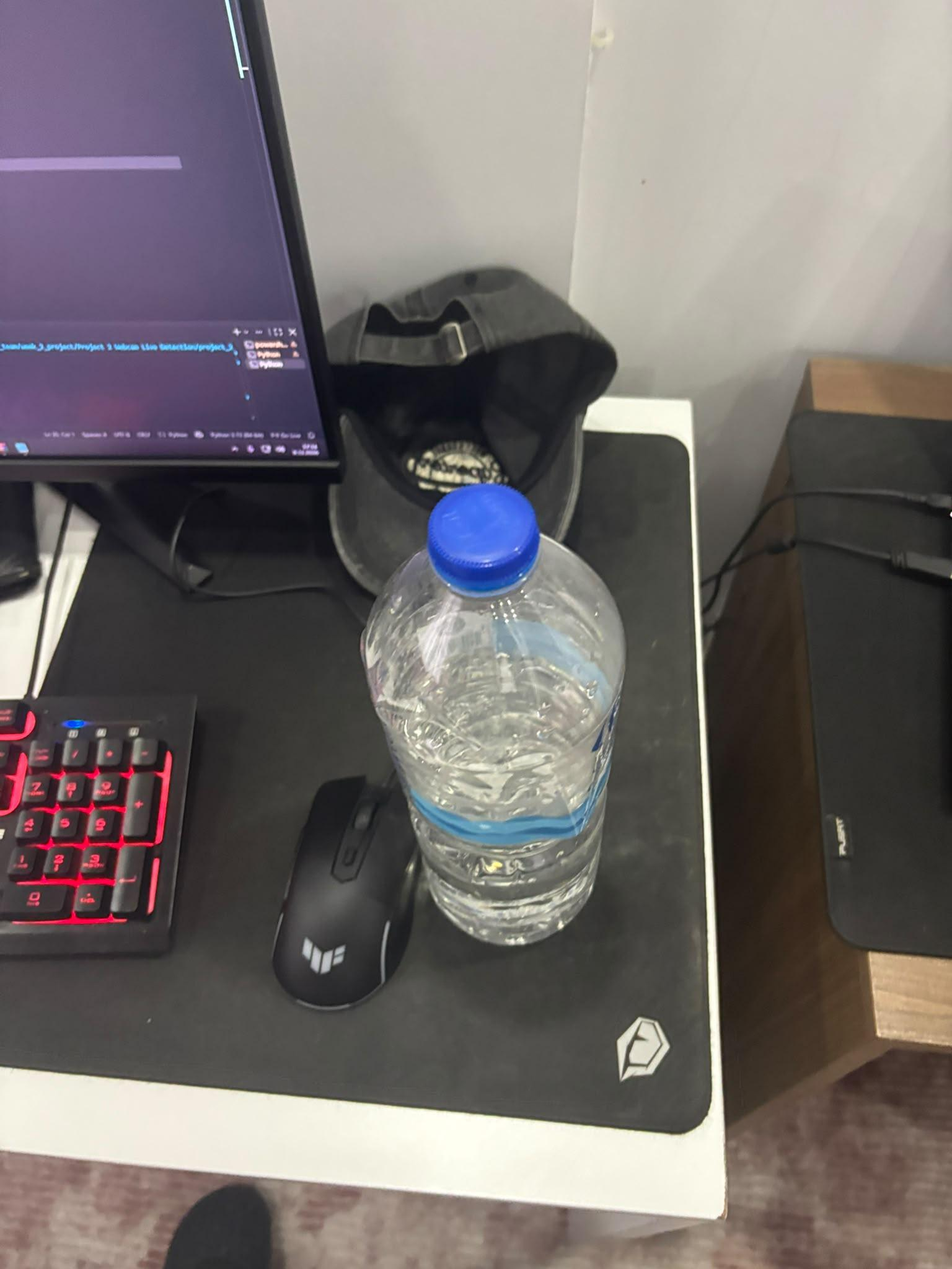cable: (169, 483, 367, 626), (702, 487, 952, 589), (701, 535, 952, 621)
keyboard: (0, 696, 198, 958)
mouse: (271, 773, 419, 1012)
water bottel: (359, 482, 627, 947)
